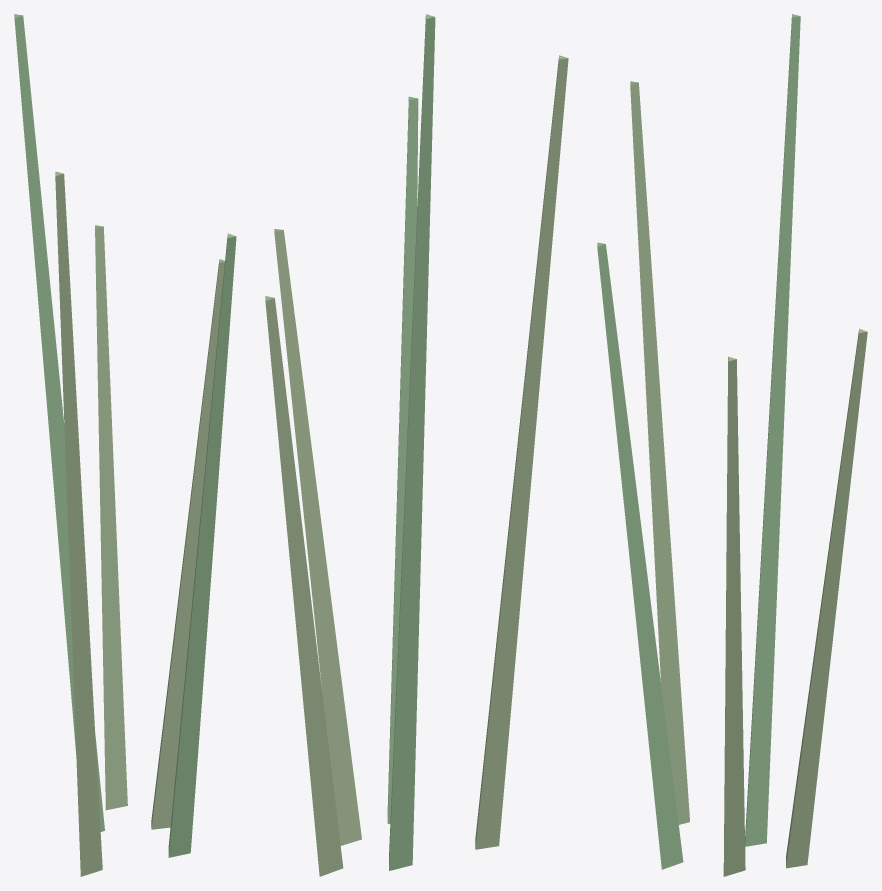
Rendered from reed_v16.glb.
3 views of the same model, side by side, from view 1: azimuth 30°, elevation 25°; view 2: azimuth 150°, elevation 25°; view 3: azimuth 270°, elevation 25° (orthographic). The views are drawn at different scales.
Visible parts, largest first — view 1: lod0; view 2: lod0; view 3: lod0.
Part boxes in pixels (x1=…): lod0: x1=14, y1=14, x2=236, y2=876; lod0: x1=265, y1=14, x2=568, y2=876; lod0: x1=597, y1=14, x2=867, y2=876.
Size of what is drawn, in the model's own units: 0.3499 by 1.22 by 0.3734.
